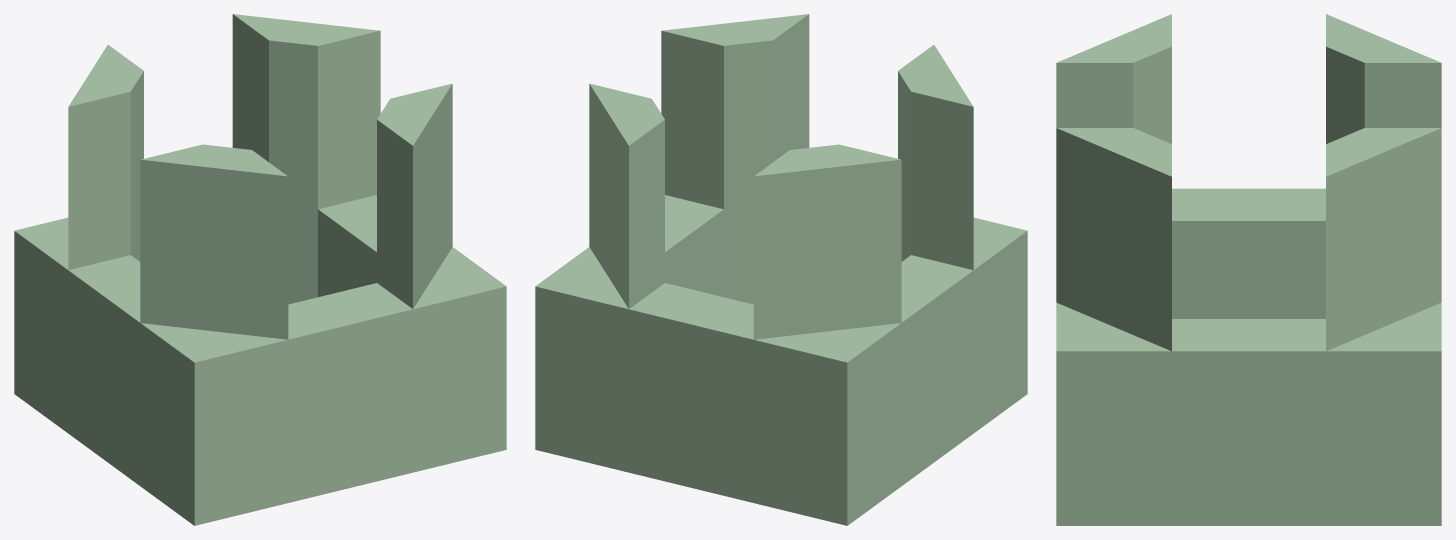
The model's file is factory.glb.
The picture shows the model from 3 angles, left to right: view 1: azimuth 30°, elevation 25°; view 2: azimuth 150°, elevation 25°; view 3: azimuth 270°, elevation 25°; orthographic projection. The views are drawn at different scales.
Parts seen in each view (by area): view 1: factory; view 2: factory; view 3: factory.
Boxes of the visible parts, x1,y1,x2,y2 form: factory: (14, 14, 506, 525); factory: (535, 14, 1027, 525); factory: (1056, 14, 1441, 525).
Bounding box in the file's own units: 1 × 1 × 1.
